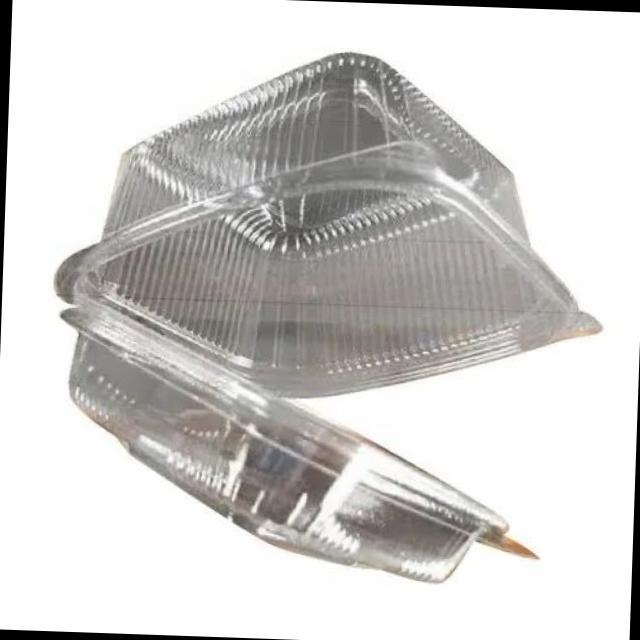plastic_box: (34, 30, 612, 606)
